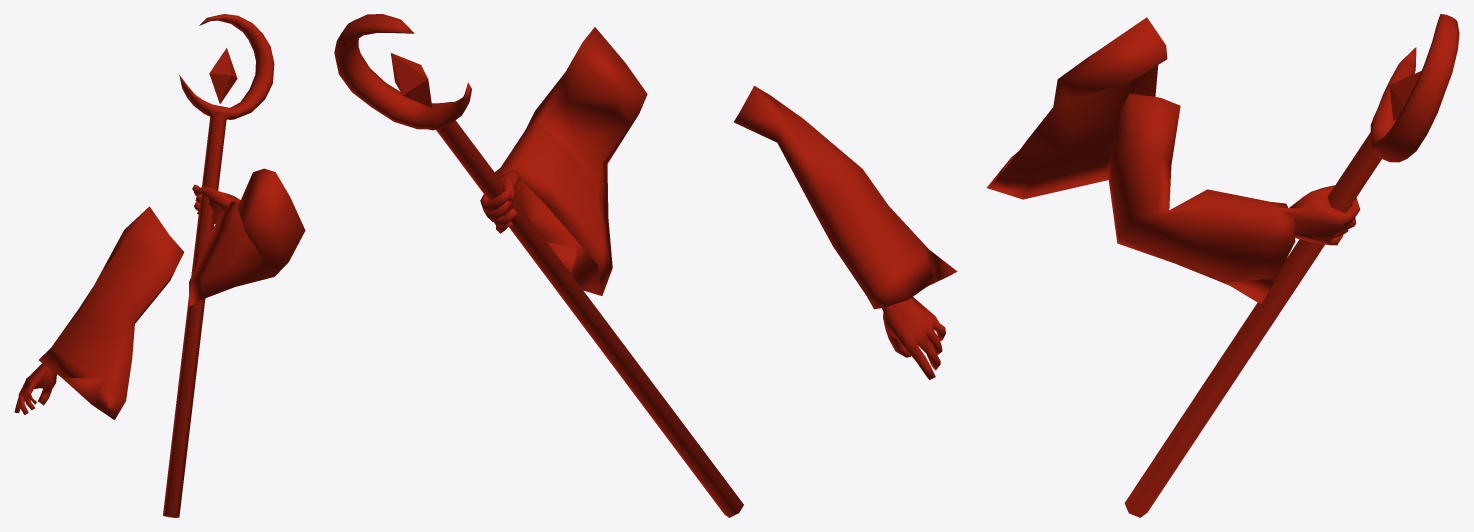
The model's file is arm_000031.obj.
The picture shows the model from 3 angles, left to right: view 1: azimuth 30°, elevation 25°; view 2: azimuth 150°, elevation 25°; view 3: azimuth 270°, elevation 25°; orthographic projection. The views are drawn at different scales.
Parts seen in each view (by area): view 1: LowPoly_Warlock.000_Plane.005; view 2: LowPoly_Warlock.000_Plane.005; view 3: LowPoly_Warlock.000_Plane.005.
Boxes of the visible parts, x1,y1,x2,y2 form: LowPoly_Warlock.000_Plane.005: (14, 14, 305, 517); LowPoly_Warlock.000_Plane.005: (334, 14, 957, 517); LowPoly_Warlock.000_Plane.005: (987, 14, 1459, 517).
Bounding box in the file's own units: 1.48 × 1.63 × 1.16.
